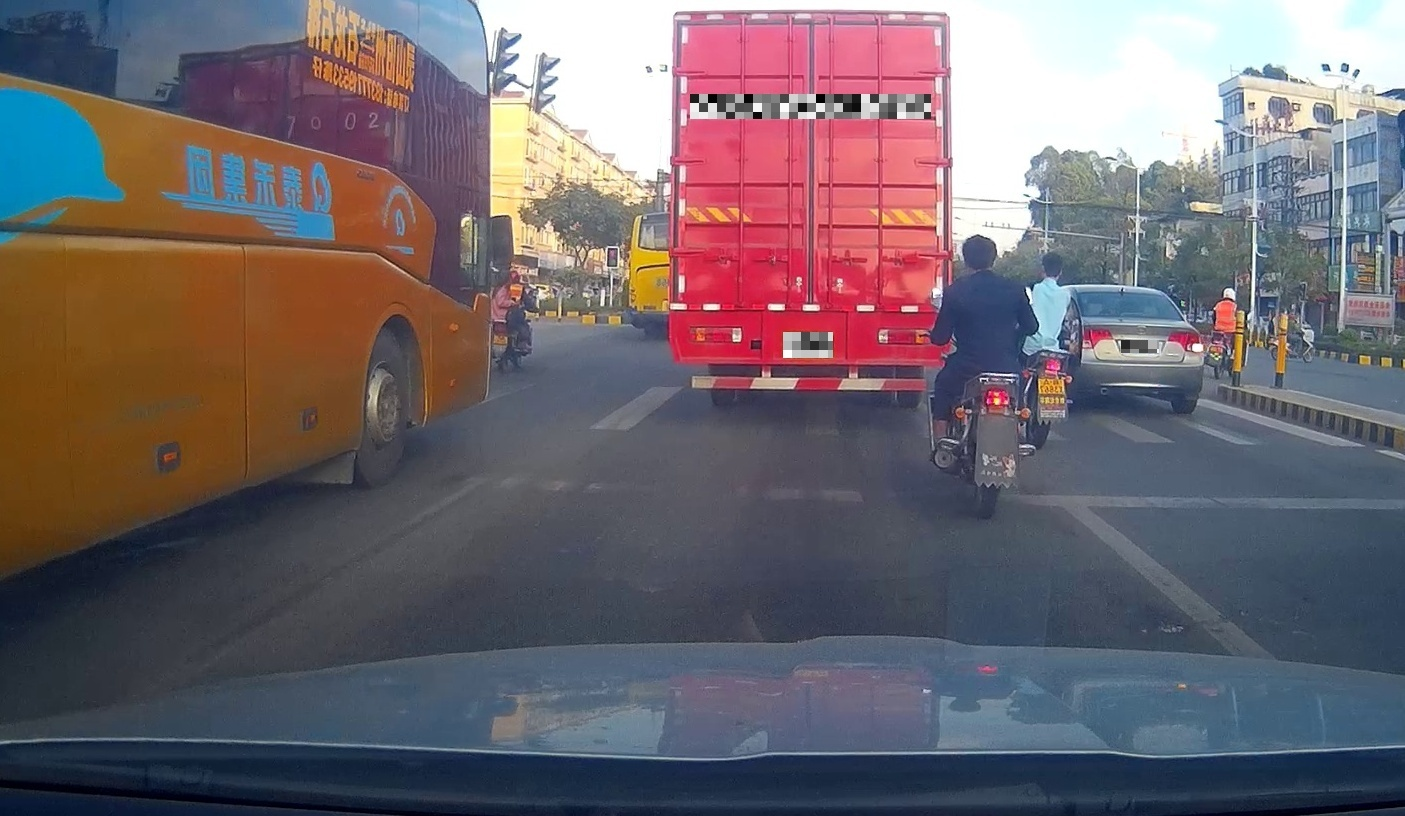L_light: (688, 327, 741, 343), (1082, 328, 1113, 349)
R_light: (1167, 330, 1204, 353), (877, 328, 930, 344)
T_light: (788, 24, 834, 43), (1114, 292, 1132, 300)
day-no: (668, 10, 953, 408)
day-right: (1072, 284, 1204, 414)
plate_1: (690, 94, 931, 119)
plate_2: (783, 332, 833, 358)
plate_3: (1121, 340, 1159, 353)
